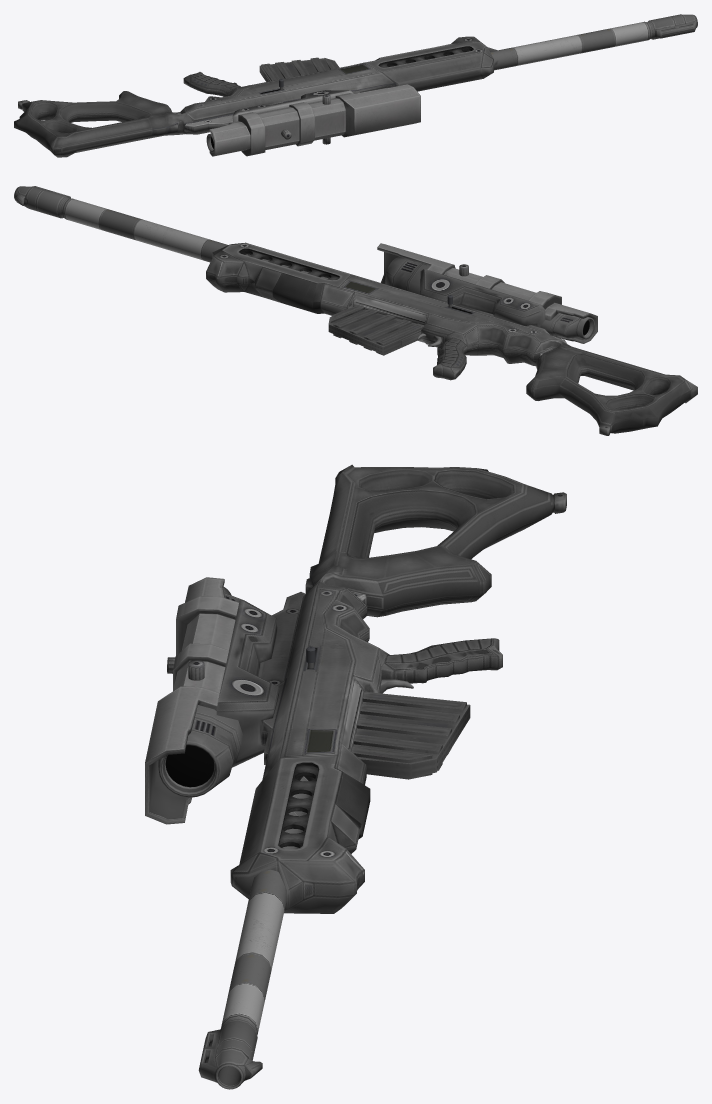
The model's file is sniper-rifle.glb.
3 views of the same model, one above another, from view 1: azimuth 30°, elevation 25°; view 2: azimuth 150°, elevation 25°; view 3: azimuth 270°, elevation 25° (orthographic). The views are drawn at different scales.
Parts seen in each view (by area): view 1: Sniper_Rifle, Sniper_Scope, Sniper_Ammo; view 2: Sniper_Rifle, Sniper_Scope, Sniper_Ammo; view 3: Sniper_Rifle, Sniper_Scope, Sniper_Ammo.
Boxes of the visible parts, bbox=[...] form: Sniper_Rifle: bbox=[14, 14, 697, 157]; Sniper_Scope: bbox=[206, 84, 420, 156]; Sniper_Ammo: bbox=[259, 57, 339, 81]; Sniper_Rifle: bbox=[14, 186, 697, 435]; Sniper_Scope: bbox=[377, 243, 597, 343]; Sniper_Ammo: bbox=[328, 305, 424, 355]; Sniper_Rifle: bbox=[198, 464, 566, 1089]; Sniper_Scope: bbox=[145, 577, 279, 824]; Sniper_Ammo: bbox=[351, 692, 470, 779].
Size of the model in its own units: 9.7 by 0.7005 by 2.87.
Materials: 1 (1 with a texture image).
